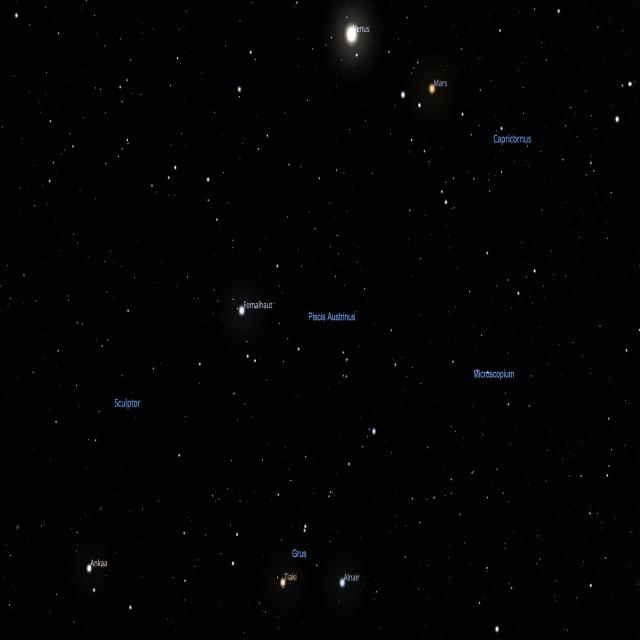Piscis Austrinus: (237, 257, 396, 364)
